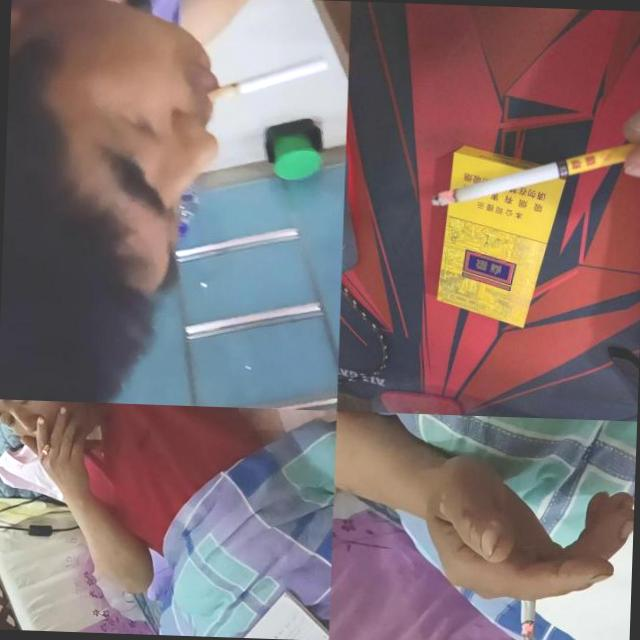cigarette: (429, 136, 636, 212), (206, 52, 327, 105), (518, 585, 537, 640), (38, 438, 52, 460)
